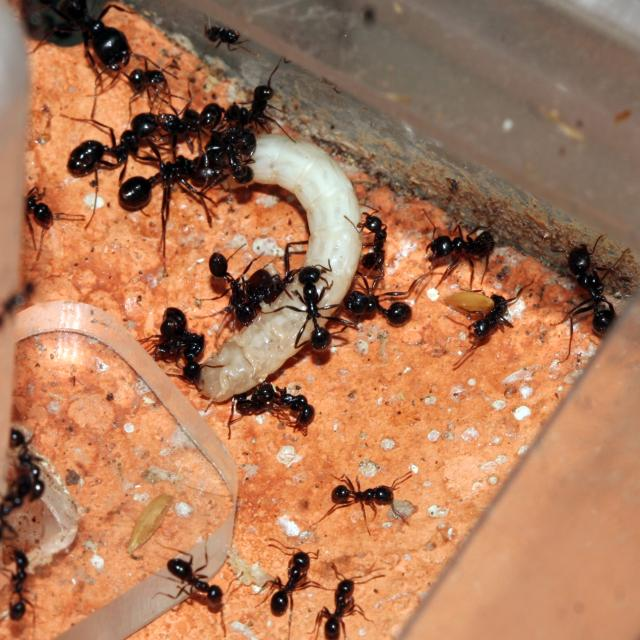ants: (551, 238, 625, 353), (32, 0, 136, 80), (58, 115, 171, 185), (282, 259, 352, 367), (232, 381, 333, 442), (114, 155, 203, 219), (415, 214, 509, 273), (149, 547, 234, 611), (200, 253, 265, 332), (260, 542, 322, 624), (310, 568, 380, 640), (344, 283, 427, 341), (462, 286, 523, 360), (152, 310, 211, 385), (325, 476, 422, 519), (7, 431, 54, 516), (6, 548, 46, 628), (225, 82, 284, 136), (116, 63, 192, 104), (27, 190, 64, 250), (198, 16, 246, 58)
